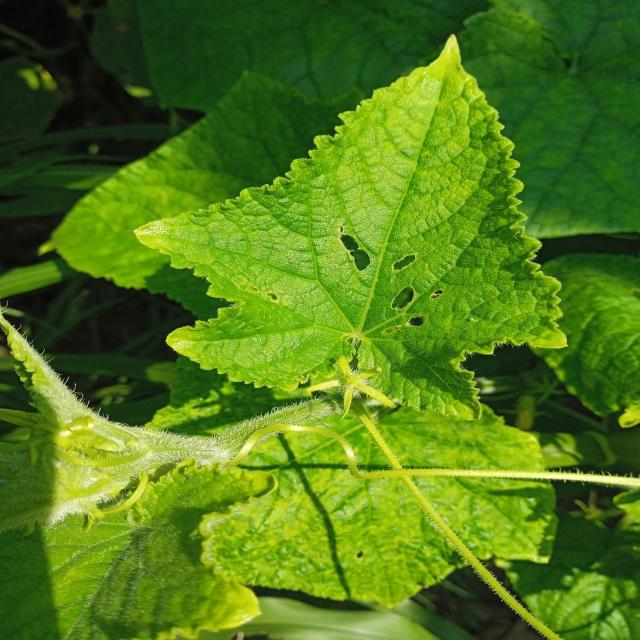cucumber_healthy: (133, 28, 582, 431), (211, 389, 566, 618), (38, 77, 368, 317), (533, 241, 640, 421)
